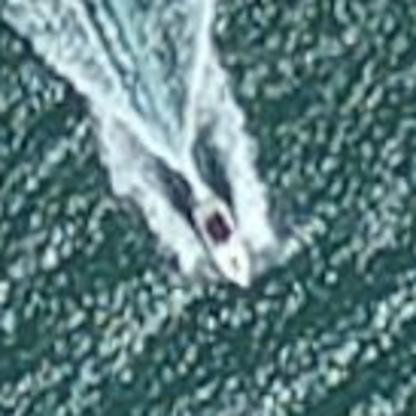ship: (173, 190, 274, 296)
